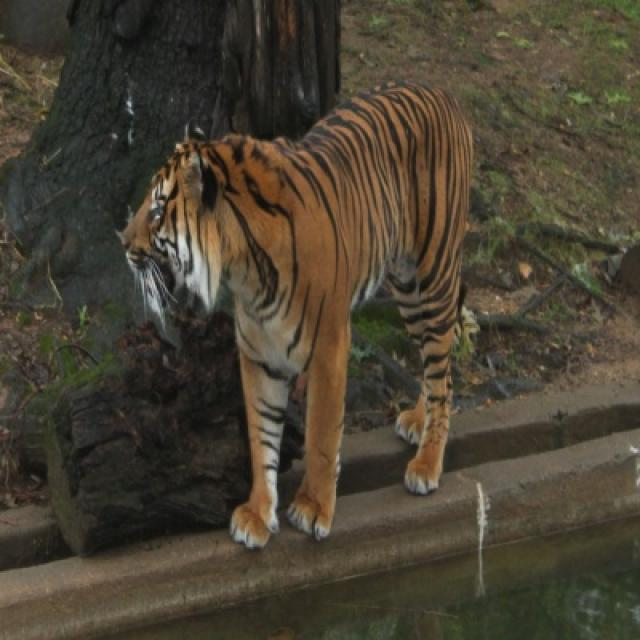Tiger: (125, 80, 470, 551)
